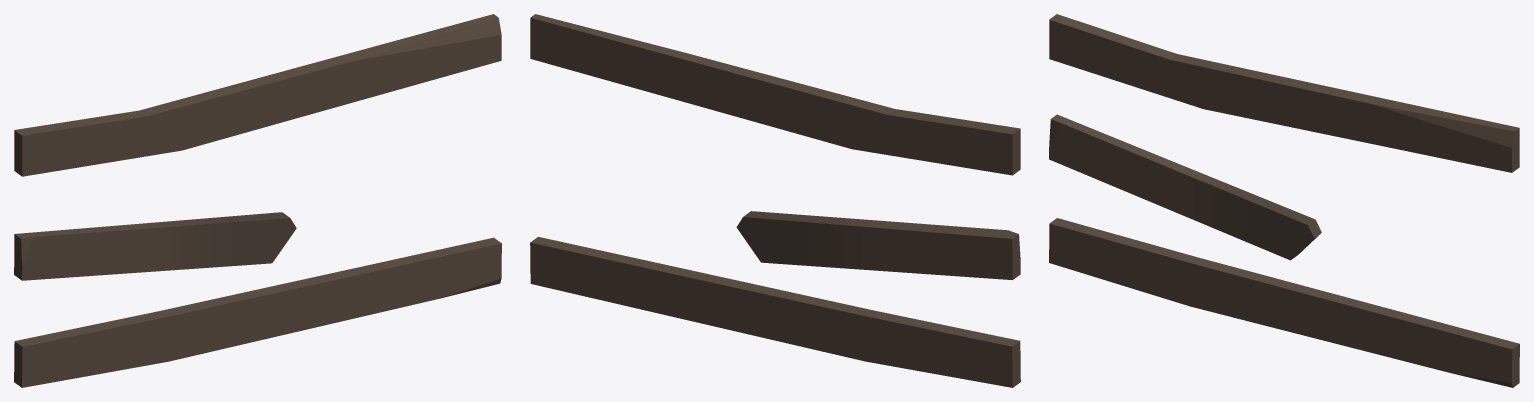
File: SM_Props_Farm_Fence_Square_T2_Rail_03.fbx
3 views of the same model, side by side, from view 1: azimuth 30°, elevation 25°; view 2: azimuth 150°, elevation 25°; view 3: azimuth 330°, elevation 25° (orthographic). The views are drawn at different scales.
Visible parts, largest first — view 1: SM_Props_Farm_Fence_Square_T2_Rail_03; view 2: SM_Props_Farm_Fence_Square_T2_Rail_03; view 3: SM_Props_Farm_Fence_Square_T2_Rail_03.
Part boxes in pixels (left/top/right/bottom): SM_Props_Farm_Fence_Square_T2_Rail_03: left=14, top=14, right=501, bottom=387; SM_Props_Farm_Fence_Square_T2_Rail_03: left=530, top=14, right=1020, bottom=387; SM_Props_Farm_Fence_Square_T2_Rail_03: left=1049, top=14, right=1519, bottom=387.
Size of the model in its own units: 200 by 106 by 5.77.
